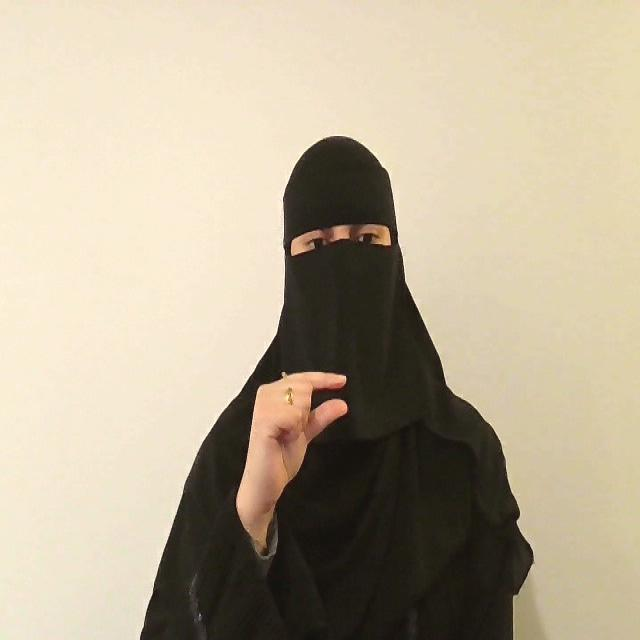fasting: (235, 368, 348, 538)
